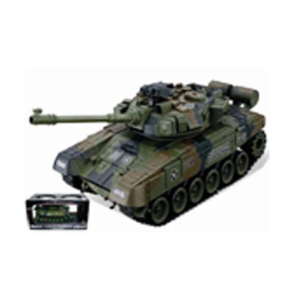Battle Tank: (33, 81, 269, 225)
